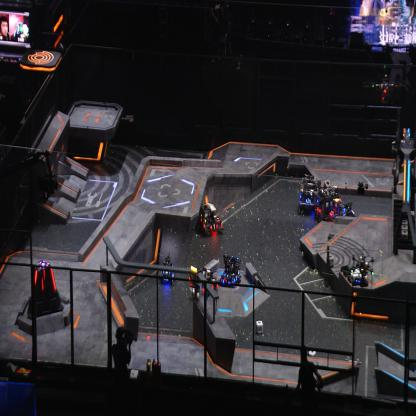car: (313, 185, 340, 223), (199, 201, 224, 237), (298, 173, 318, 215), (218, 254, 242, 288), (199, 266, 219, 299), (158, 253, 177, 285), (337, 198, 356, 228)
